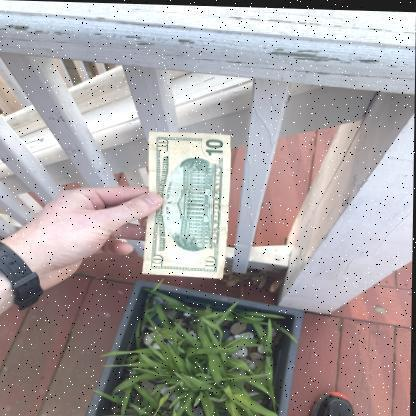ten-back: (146, 130, 232, 278)
